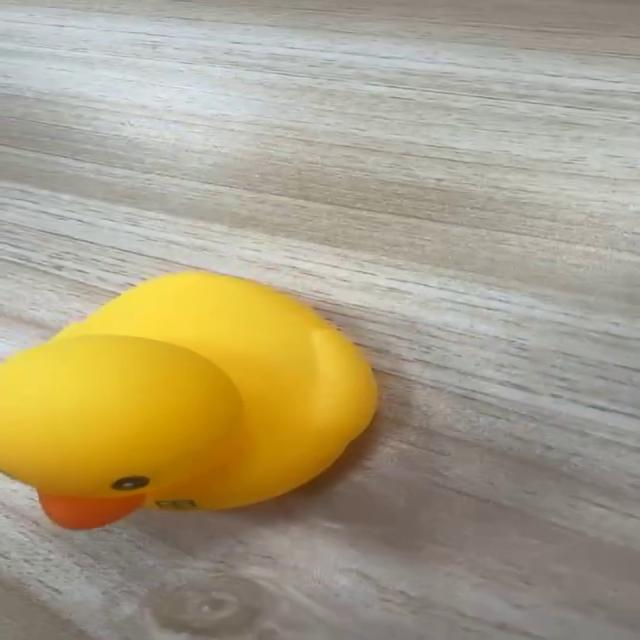yellow_duck: (0, 268, 380, 530)
